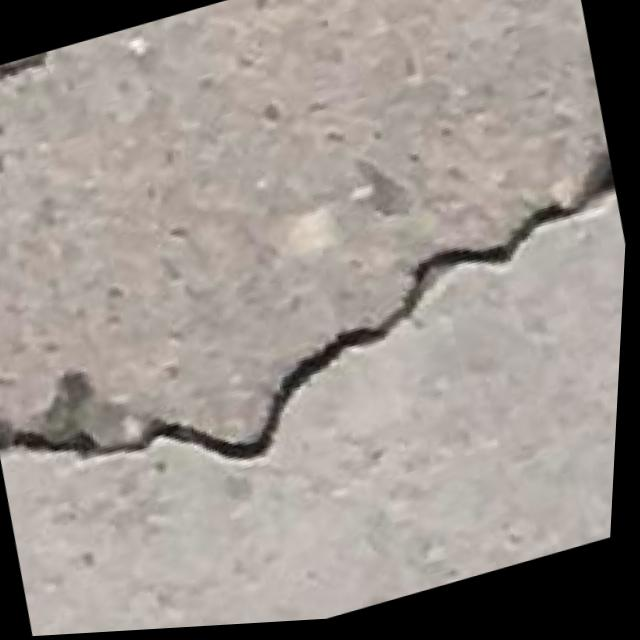Crack: (0, 132, 633, 547)
